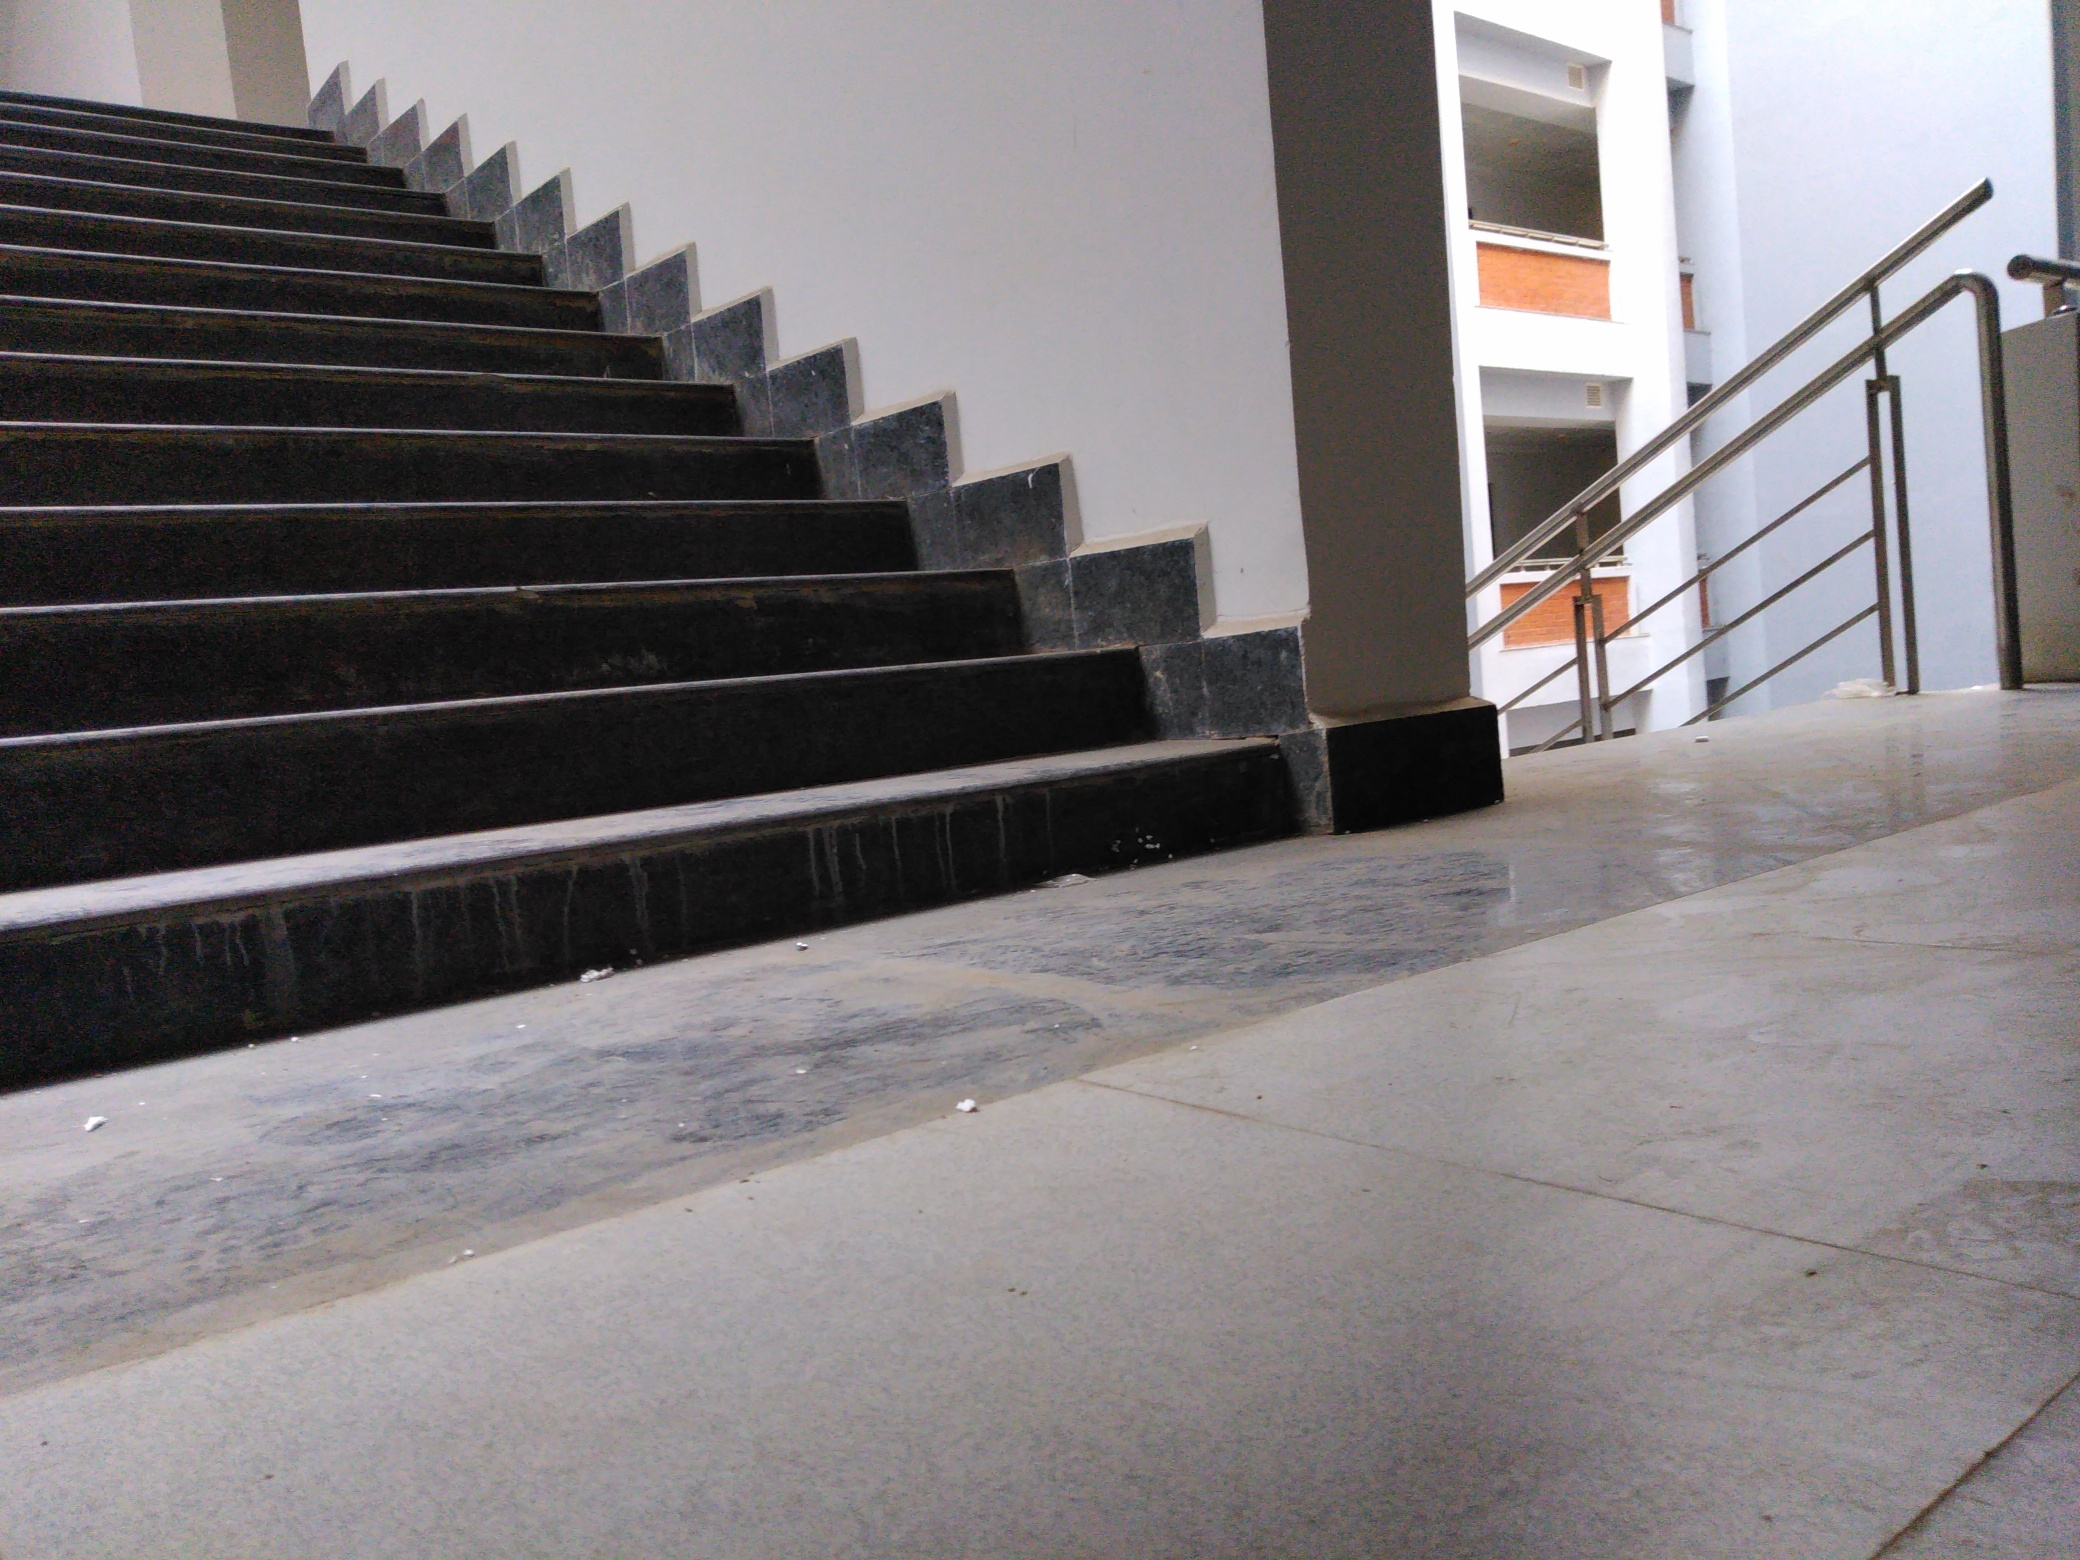stairs_up: (11, 161, 1178, 891)
